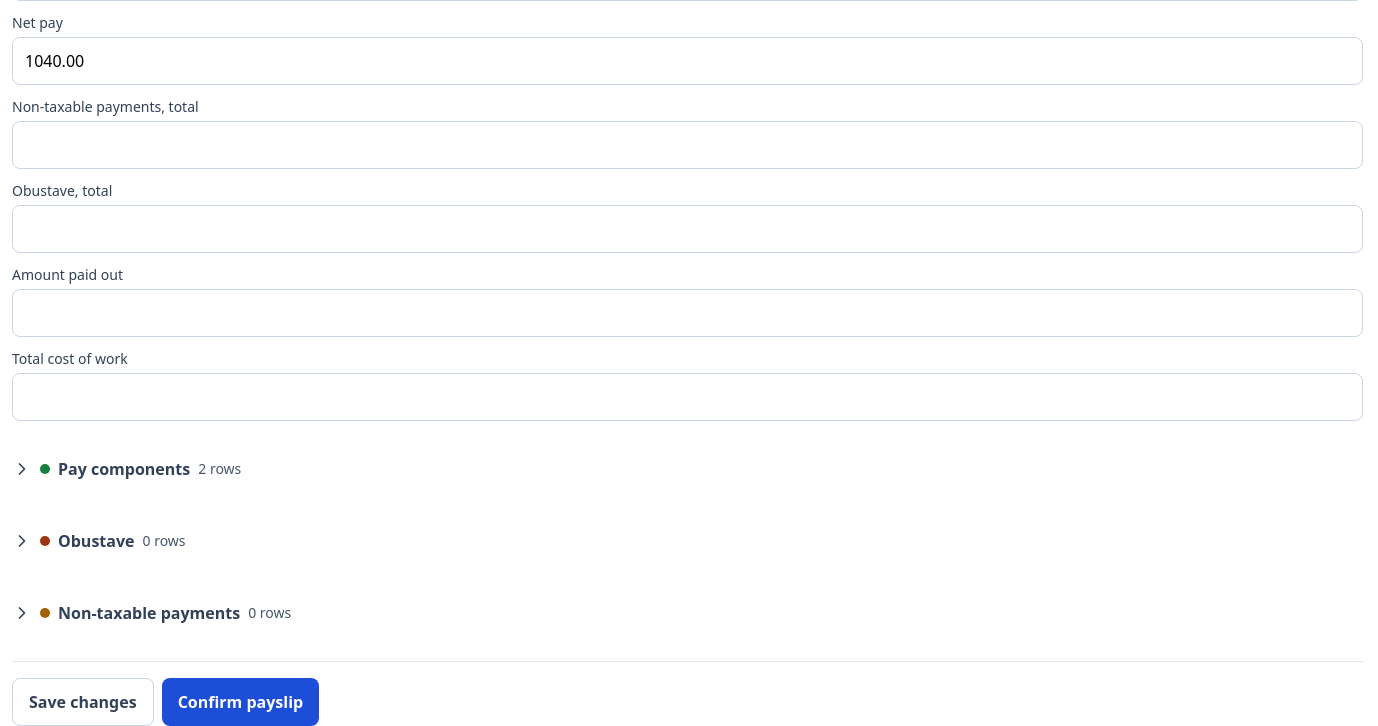
Test: PayslipForm sections (Task 15 D9) › starts the tables collapsed with their row count, and opens them
(page scrolled)
Click the button "Pay components 2 rows" at (127, 469), box [12,445,241,493]
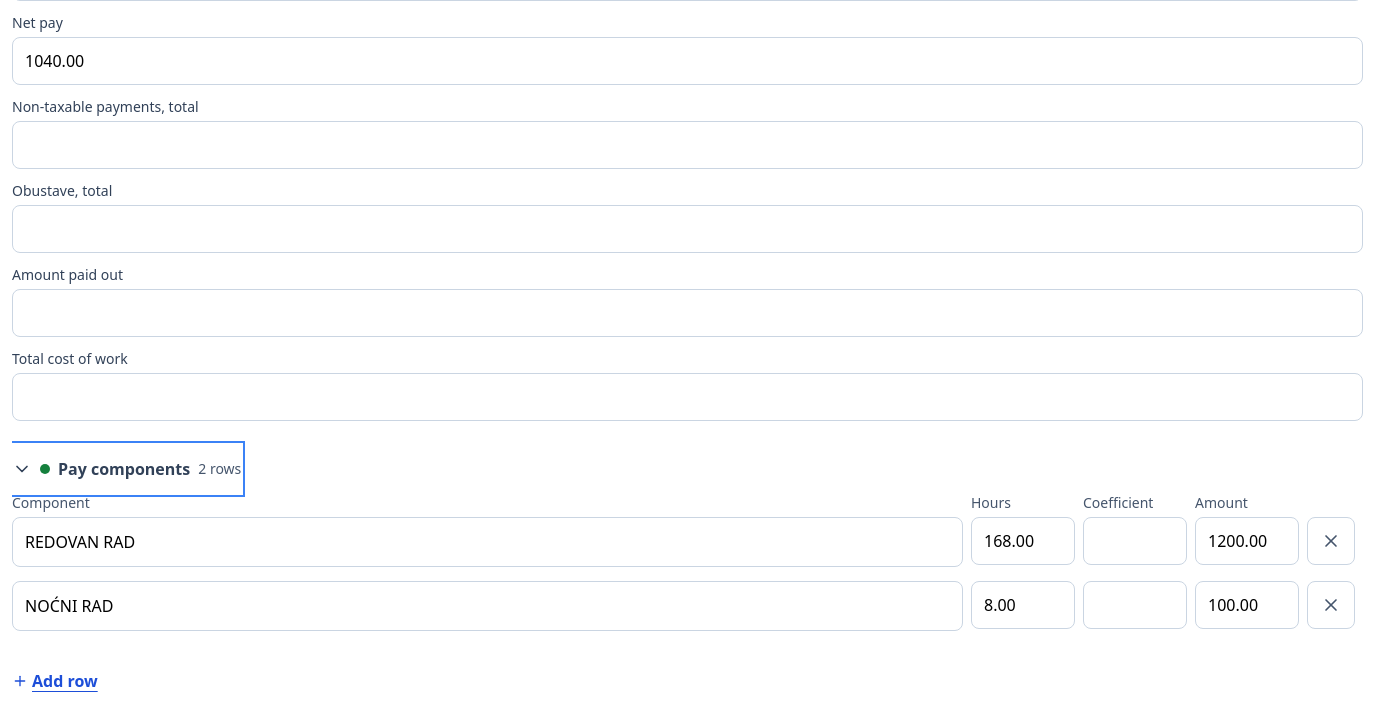
Check: the button "Pay components 2 rows" is expanded, box [12,445,241,493]
